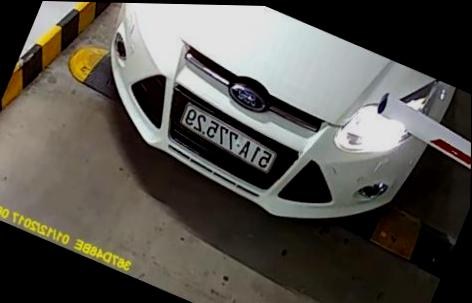License_Plate: (180, 110, 275, 184)
